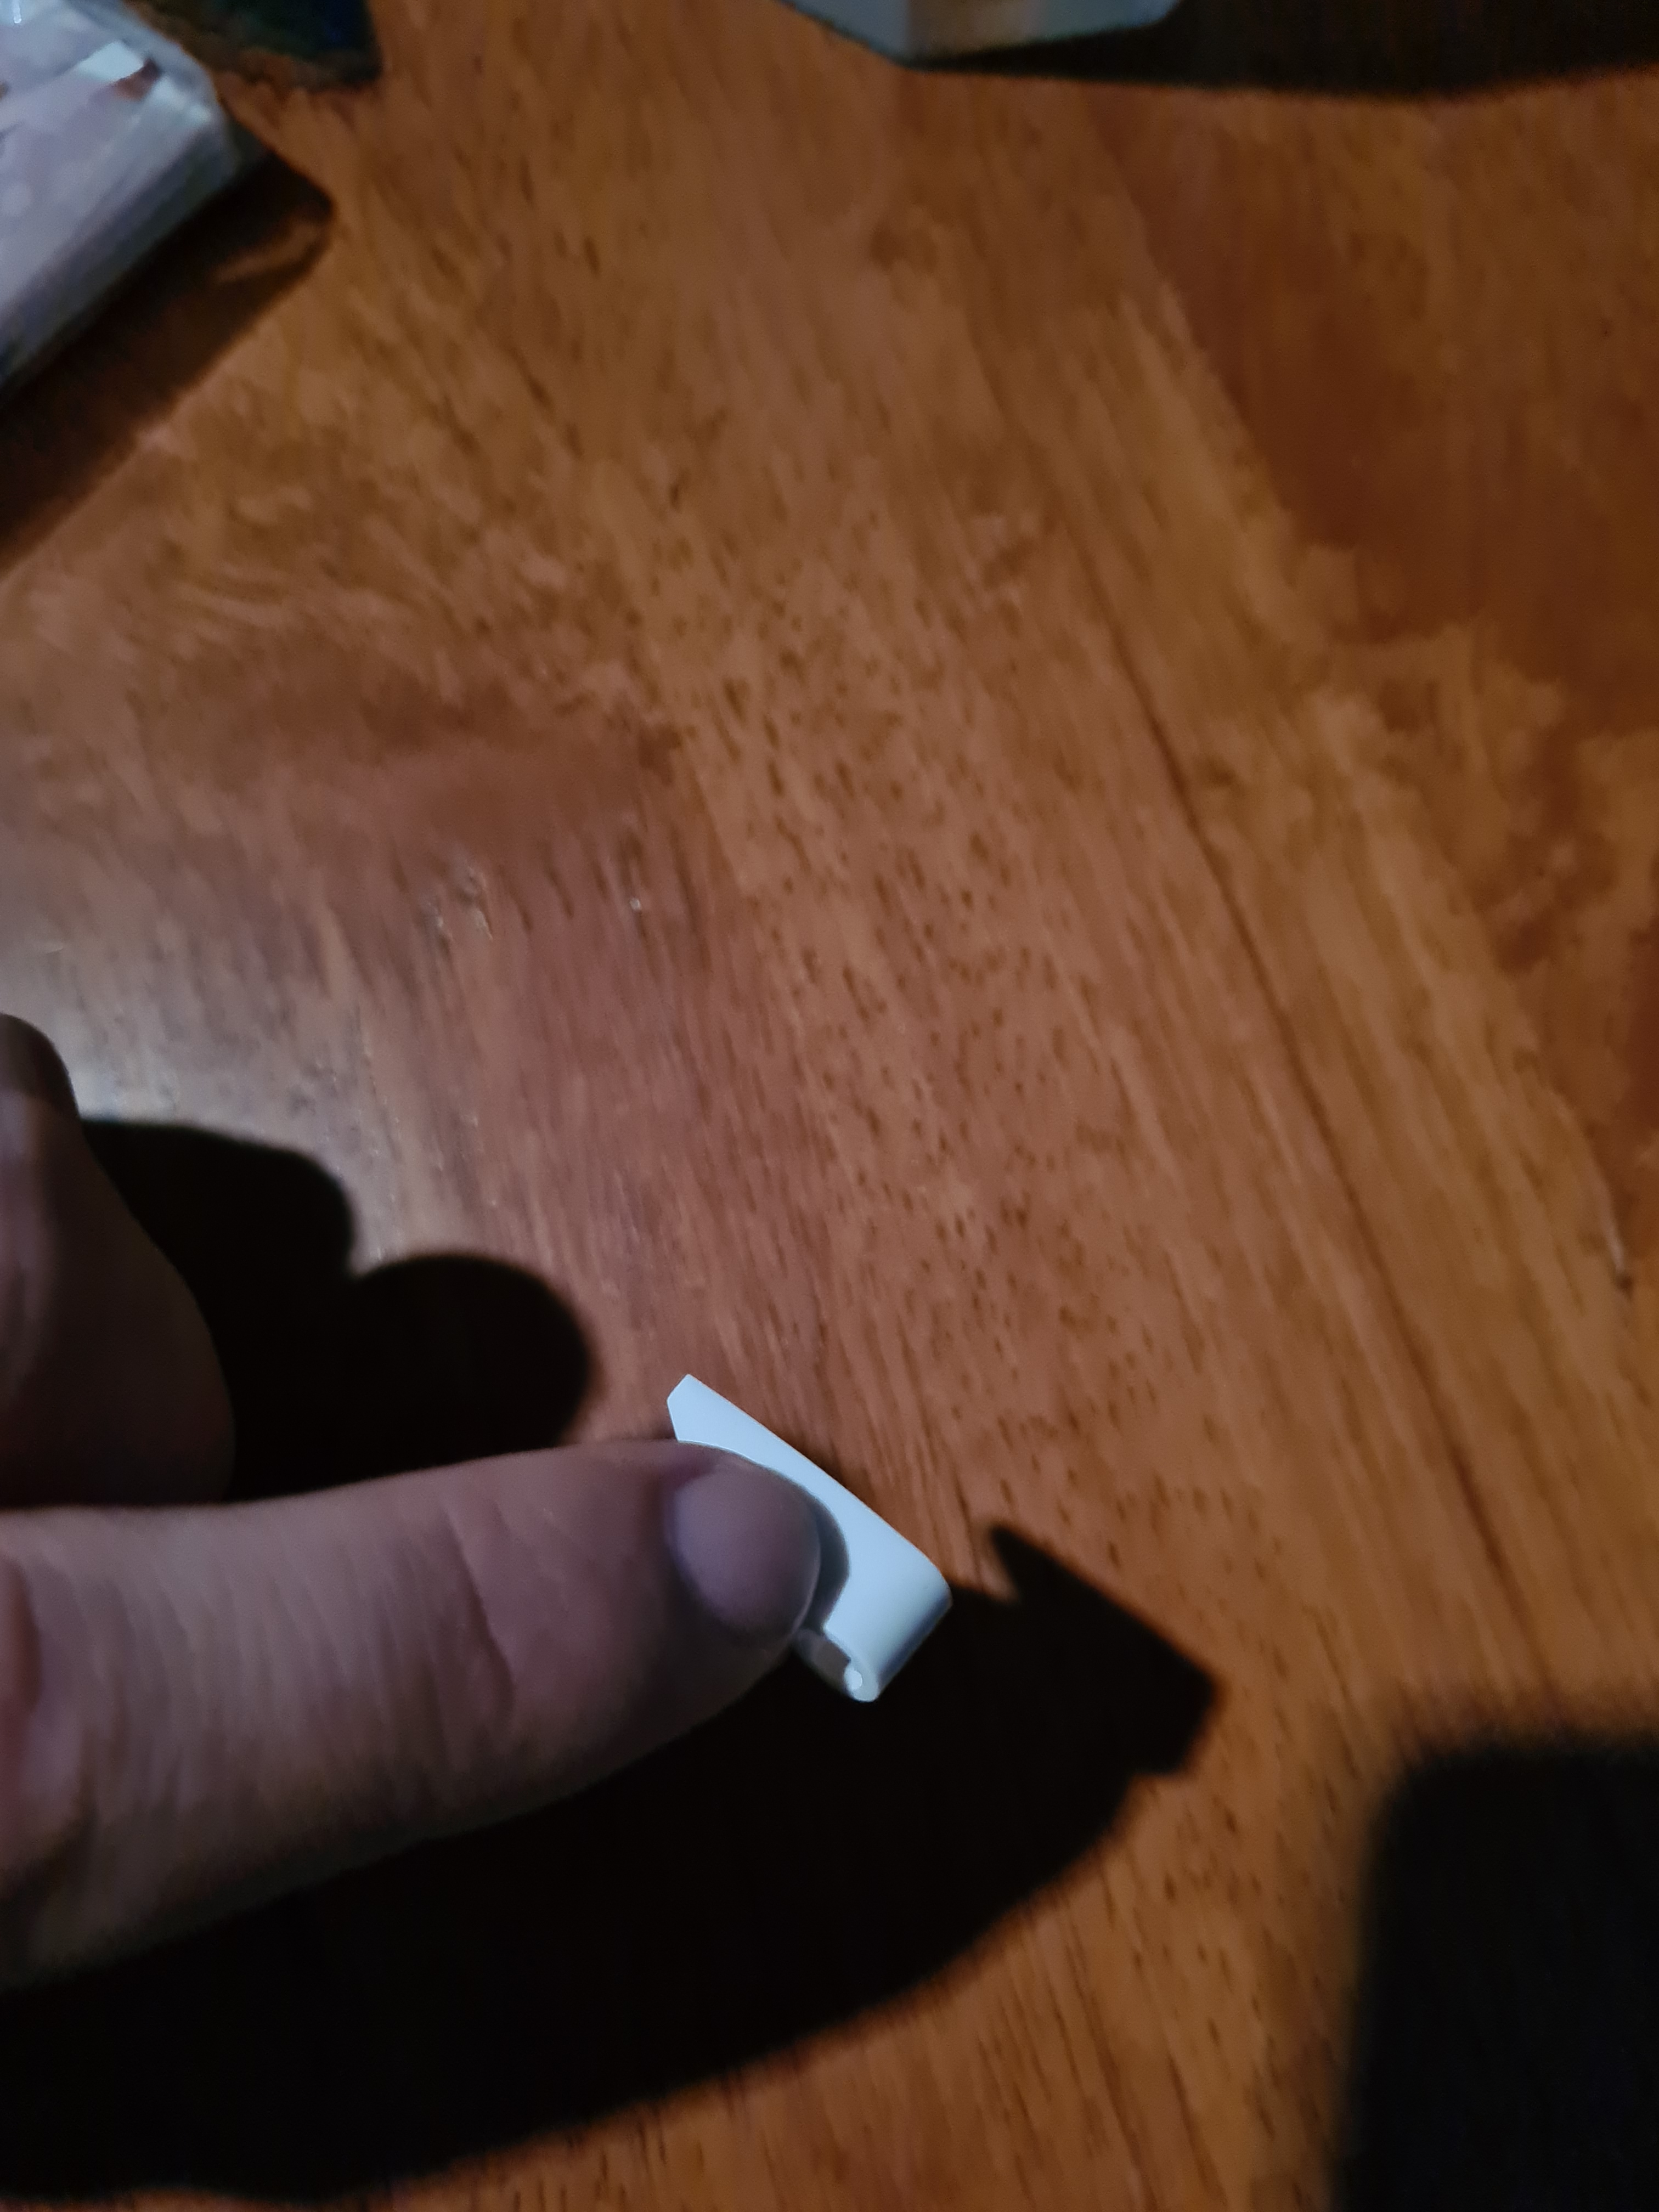Kappe: (638, 1308, 995, 1719)
